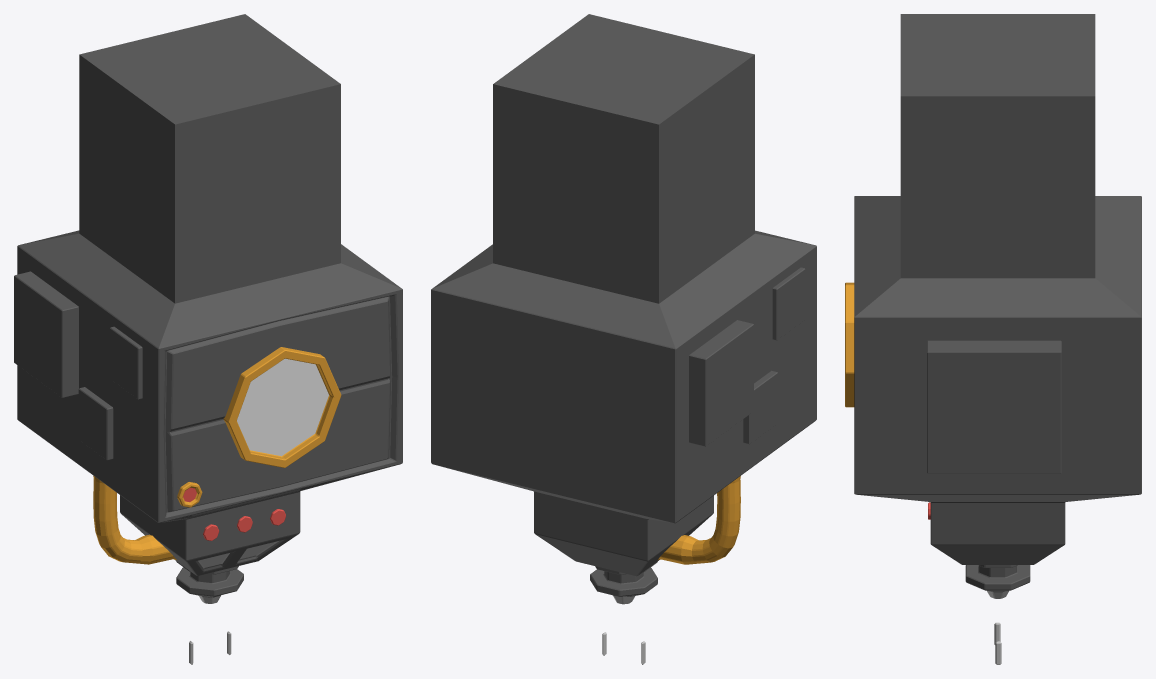
File: DoughMixer1.fbx
3 views of the same model, side by side, from view 1: azimuth 30°, elevation 25°; view 2: azimuth 150°, elevation 25°; view 3: azimuth 270°, elevation 25° (orthographic).
Visible parts, largest first — view 1: Cube; view 2: Cube; view 3: Cube.
Boxes of the visible parts, box(x1,y1,x2,y2) form: Cube: box(14, 14, 402, 603); Cube: box(431, 14, 816, 604); Cube: box(845, 14, 1141, 598).
Size of the model in its own units: 107 by 212 by 94.76.
